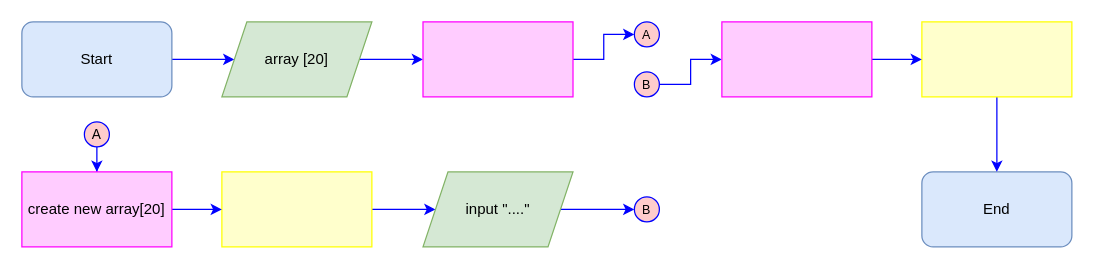
Image size: 1094x269. Some labels were removed from this diagram. The centre of each missing label's shape, as x and y in pixels:
copy to array: [796,59]
function(): [497,59]
Write "Enter the text : ": [296,209]
Write "text is : ...": [996,59]
